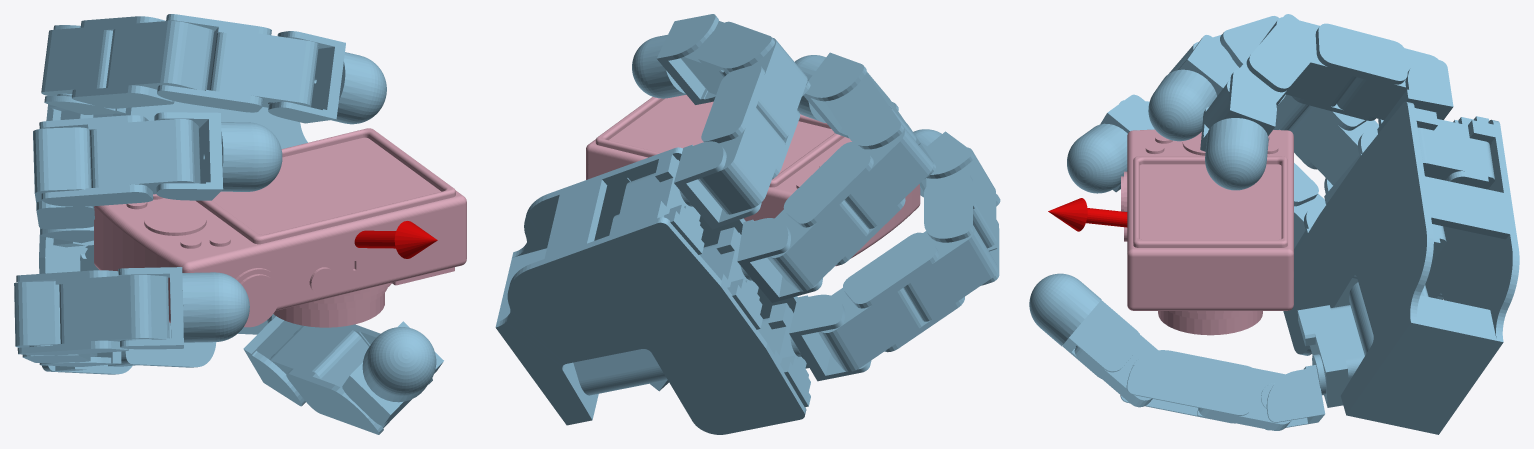
3 renders of one model, left to right at view 1: azimuth 30°, elevation 25°; view 2: azimuth 150°, elevation 25°; view 3: azimuth 270°, elevation 25°, orthographic. The views are drawn at different scales.
Visible parts, largest first — view 1: world, camera.stl; view 2: world, camera.stl; view 3: world, camera.stl.
Part boxes in pixels (x1=…): world: x1=14, y1=14, x2=443, y2=434; camera.stl: x1=94, y1=128, x2=466, y2=327; world: x1=495, y1=14, x2=1000, y2=434; camera.stl: x1=586, y1=94, x2=920, y2=266; world: x1=1029, y1=14, x2=1519, y2=434; camera.stl: x1=1121, y1=129, x2=1293, y2=335.
Bounding box in the file's own units: 0.1678 × 0.1568 × 0.1904.
